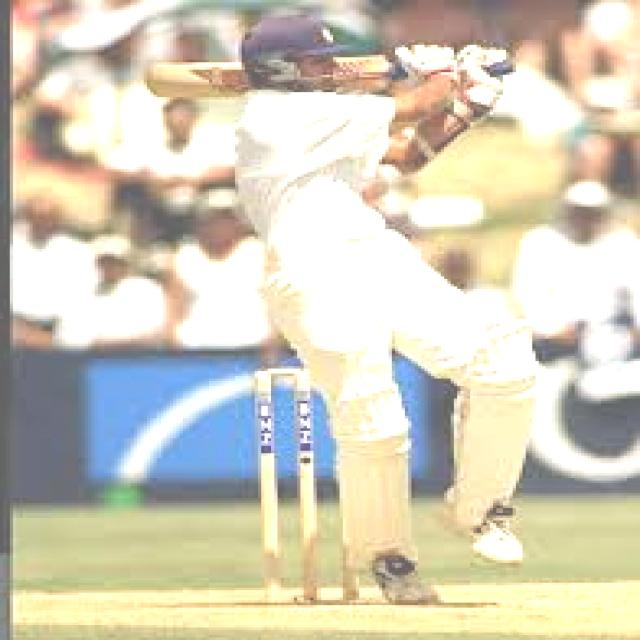toe: (146, 60, 170, 106)
